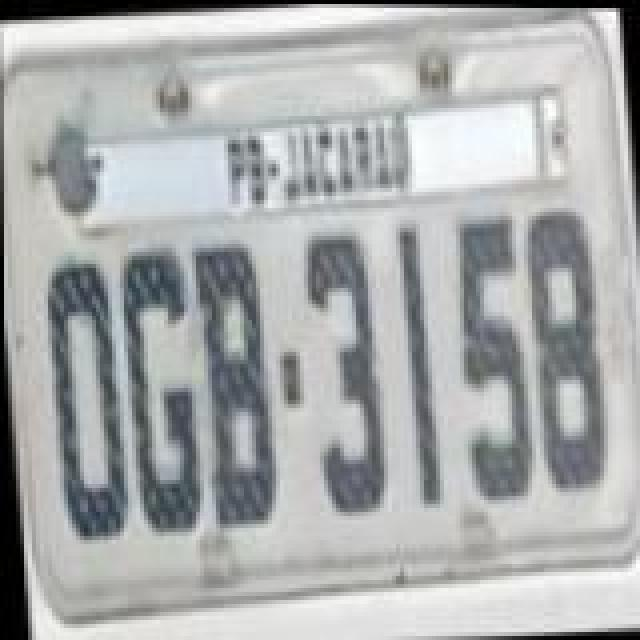1: (396, 224, 444, 516)
3: (294, 224, 386, 520)
5: (446, 212, 538, 508)
8: (518, 198, 610, 494)
B: (188, 240, 280, 536)
G: (112, 240, 204, 536)
O: (40, 260, 132, 548)
